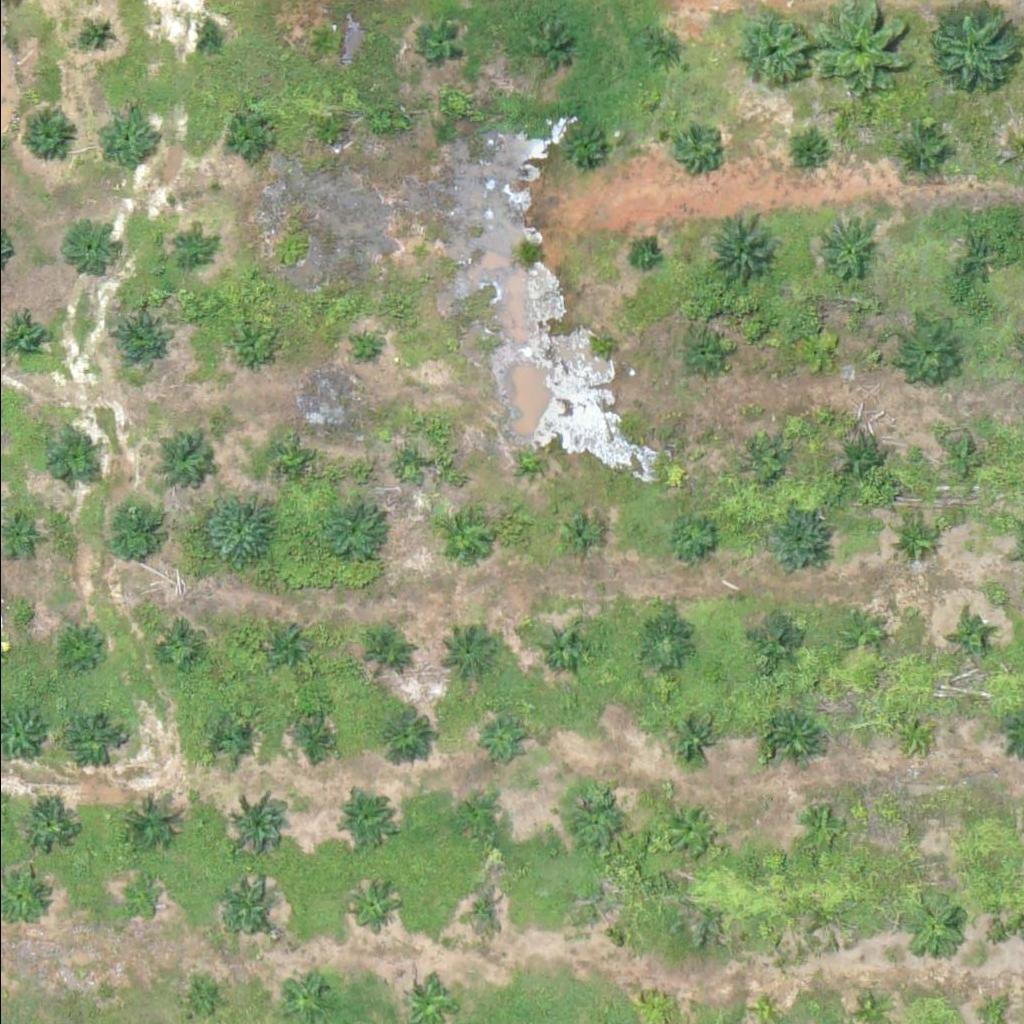Kelapa_Sawit: (727, 6, 815, 94), (315, 491, 391, 566), (97, 495, 173, 570), (201, 495, 277, 570), (703, 212, 779, 287), (155, 424, 218, 487), (59, 709, 122, 772), (109, 309, 172, 372), (435, 625, 498, 688), (564, 783, 627, 846), (766, 512, 829, 575), (931, 427, 994, 490), (366, 704, 429, 767), (328, 788, 391, 850), (115, 789, 178, 851), (214, 876, 277, 938), (231, 792, 294, 854), (893, 320, 956, 382), (814, 220, 877, 282), (12, 103, 75, 165), (94, 107, 157, 169), (762, 707, 825, 769), (661, 801, 724, 863), (901, 897, 964, 959), (944, 224, 1007, 286), (347, 882, 398, 932), (62, 223, 113, 273), (225, 113, 276, 163), (639, 619, 690, 669), (757, 617, 808, 667), (835, 437, 886, 487), (892, 513, 943, 563), (741, 438, 792, 488), (795, 326, 846, 376), (668, 514, 719, 564), (668, 712, 719, 762), (453, 886, 504, 936), (455, 798, 506, 848), (478, 716, 529, 766), (536, 624, 587, 674), (43, 435, 93, 485), (60, 621, 110, 671), (156, 620, 206, 670), (25, 802, 75, 852), (898, 127, 948, 177), (435, 513, 485, 563), (798, 807, 848, 857), (838, 610, 888, 660), (675, 332, 725, 382), (290, 714, 340, 764), (206, 716, 256, 766), (270, 622, 320, 672), (365, 627, 415, 677), (552, 509, 602, 559), (669, 121, 719, 171), (555, 124, 605, 174), (416, 21, 466, 71), (523, 21, 573, 71), (637, 28, 687, 78), (169, 226, 207, 264), (896, 716, 934, 754), (951, 619, 989, 657), (120, 877, 158, 915), (226, 331, 264, 368), (889, 814, 927, 851), (591, 897, 629, 934), (78, 18, 116, 55), (303, 22, 340, 60), (308, 115, 346, 152), (184, 980, 221, 1017), (630, 241, 656, 266), (274, 453, 300, 478), (520, 446, 545, 471), (392, 451, 417, 476), (349, 334, 374, 359), (593, 334, 618, 359), (194, 24, 219, 49), (795, 142, 820, 167), (404, 240, 429, 265)
